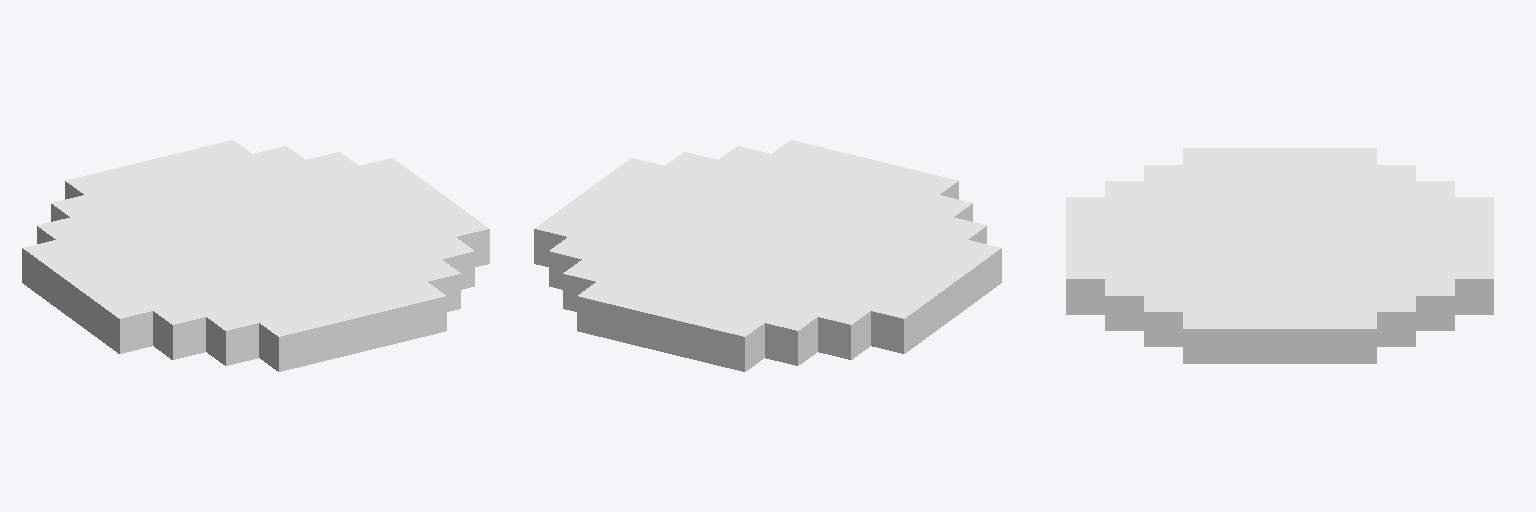
The model's file is PressurePlate.obj.
3 renders of one model, left to right at view 1: azimuth 30°, elevation 25°; view 2: azimuth 150°, elevation 25°; view 3: azimuth 270°, elevation 25°, orthographic.
Bounding box in the file's own units: 11 × 1 × 11.